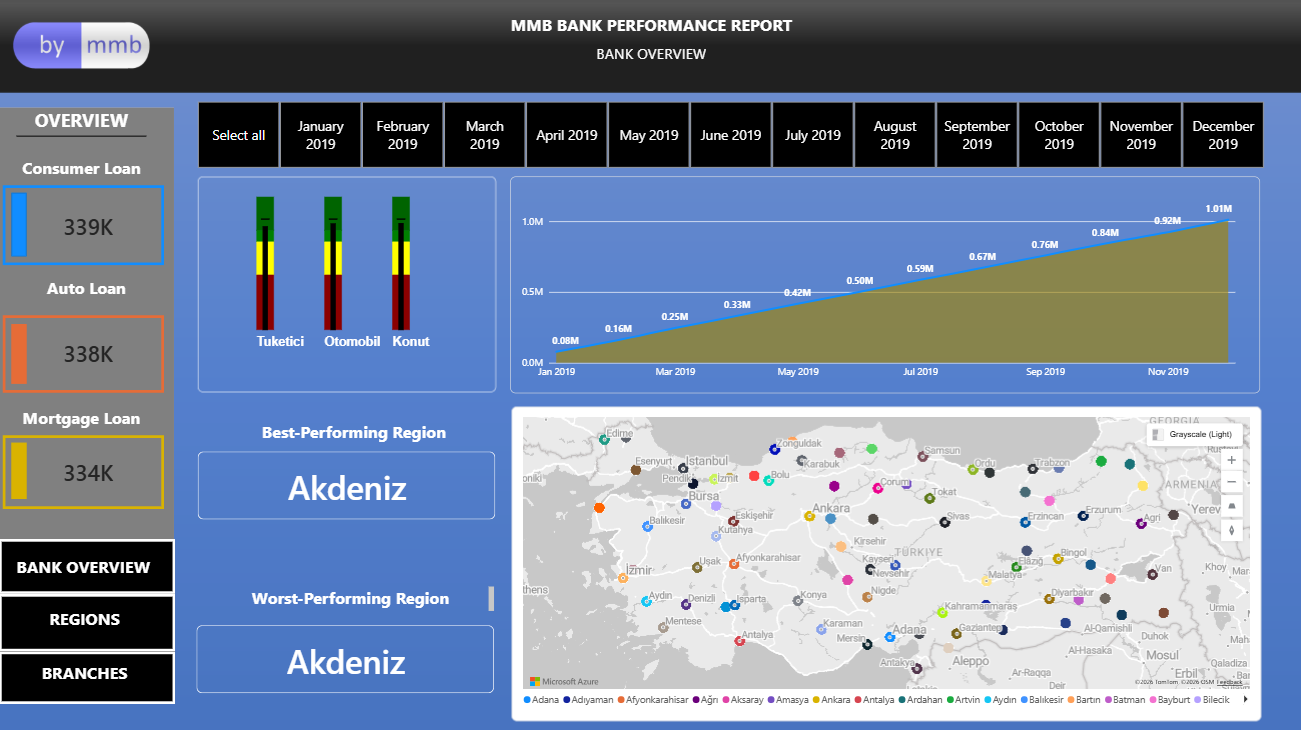

The page's visual inventory and layout, read from the dashboard file:
{"tool":"powerbi","page":{"name":"BANK","canvas":[1920,1080],"ordinal":0},"visuals":[{"type":"textbox","box":[752.8,22.1,416,42.3],"z":0},{"type":"textbox","box":[752.8,64.4,416,42.3],"z":1000},{"type":"shape","box":[0,160.1,257.7,877.9],"z":2000},{"type":"textbox","box":[25.8,159.4,191.4,42.3],"z":3000},{"type":"shape","box":[25.8,172.3,191.4,58],"z":4000},{"type":"shape","box":[5.5,274.2,237.4,117.8],"z":5000},{"type":"textbox","box":[25.8,231.2,191.4,42.3],"z":6000},{"type":"shape","box":[18.4,285.3,22.1,93.9],"z":7000},{"type":"shape","box":[5.5,465.6,237.4,114.1],"z":8000},{"type":"textbox","box":[33.1,408.6,191.4,42.3],"z":9000},{"type":"shape","box":[18.4,478.5,22.1,88.3],"z":10000},{"type":"shape","box":[5.5,642.3,237.4,108.6],"z":11000},{"type":"shape","box":[18.4,653.4,22.1,82.8],"z":12000},{"type":"textbox","box":[25.8,600,191.4,42.3],"z":13000},{"type":"shape","box":[0,795.1,259.5,81],"z":14000},{"type":"shape","box":[0,876.1,259.5,84.7],"z":15000},{"type":"shape","box":[0,960.7,259.5,77.3],"z":16000},{"type":"textbox","box":[12.9,819,222.7,46],"z":17000},{"type":"textbox","box":[14.7,896.3,222.7,46],"z":18000},{"type":"textbox","box":[14.7,975.5,222.7,46],"z":19000},{"type":"cardVisual","fields":{"Data":["Olculer.Tuketici Kredisi Toplam Satisi"]},"box":[46,285.3,171.2,97.5],"z":19001},{"type":"cardVisual","fields":{"Data":["Olculer.Otomobil Kredisi Toplam Satisi"]},"box":[46,473,171.2,97.5],"z":19002},{"type":"cardVisual","fields":{"Data":["Olculer.Konut Kredisi Toplam Satisi"]},"box":[46,647.9,171.2,97.5],"z":19003},{"type":"slicer","fields":{"Values":["Krediler.Ay"]},"box":[272.4,149.1,1608.6,101.2],"z":19004},{"type":"BulletChart1443347686880","fields":{"Category":["Krediler.Kategori"],"Value":["Olculer.Toplam Kredi Satisi"],"TargetValue":["Olculer.Toplam Kredi Hedefi"]},"box":[292.2,260.8,439.2,317.6],"z":19005},{"type":"areaChart","fields":{"Category":["Krediler.Ay"],"Y":["Olculer.Kumulativ"]},"box":[752.8,261.4,1104.3,319.1],"z":19006},{"type":"textbox","box":[26,0,191,150],"z":19007},{"type":"textbox","box":[314.8,620.4,416,42.3],"z":19008},{"type":"cardVisual","fields":{"Data":["Min(Sube_listesi.Bolgesi)"]},"box":[292.6,666.7,438.9,100],"z":19009},{"type":"textbox","box":[313,864.8,416,42.3],"z":19010},{"type":"cardVisual","fields":{"Data":["Min(Sube_listesi.Bolgesi)"]},"box":[290.7,922.2,438.9,100],"z":19011},{"type":"azureMap","fields":{"Category":["Sube_listesi.Konum"],"Series":["Sube_listesi.Konum"]},"box":[753.7,600,1103.7,463],"z":19012}]}

Visuals, with their boxes in screenshot pixels (x1, y1, x2, y2), scaled from the page's 1920x1080 canvas onto the 1301x730 screenshot:
textbox: [510,15,792,44]
textbox: [510,44,792,72]
shape: [0,108,175,702]
textbox: [17,108,147,136]
shape: [17,116,147,156]
shape: [4,185,165,265]
textbox: [17,156,147,185]
shape: [12,193,27,256]
shape: [4,315,165,392]
textbox: [22,276,152,305]
shape: [12,323,27,383]
shape: [4,434,165,508]
shape: [12,442,27,498]
textbox: [17,406,147,434]
shape: [0,537,176,592]
shape: [0,592,176,649]
shape: [0,649,176,702]
textbox: [9,554,160,585]
textbox: [10,606,161,637]
textbox: [10,659,161,690]
cardVisual - Olculer.Tuketici Kredisi Toplam Satisi: [31,193,147,259]
cardVisual - Olculer.Otomobil Kredisi Toplam Satisi: [31,320,147,386]
cardVisual - Olculer.Konut Kredisi Toplam Satisi: [31,438,147,504]
slicer - Krediler.Ay: [185,101,1275,169]
BulletChart1443347686880 - Krediler.Kategori x Olculer.Toplam Kredi Satisi: [198,176,496,391]
areaChart - Krediler.Ay x Olculer.Kumulativ: [510,177,1258,392]
textbox: [18,0,147,101]
textbox: [213,419,495,448]
cardVisual - Min(Sube_listesi.Bolgesi): [198,451,496,518]
textbox: [212,585,494,613]
cardVisual - Min(Sube_listesi.Bolgesi): [197,623,494,691]
azureMap - Sube_listesi.Konum x Sube_listesi.Konum: [511,406,1259,719]
